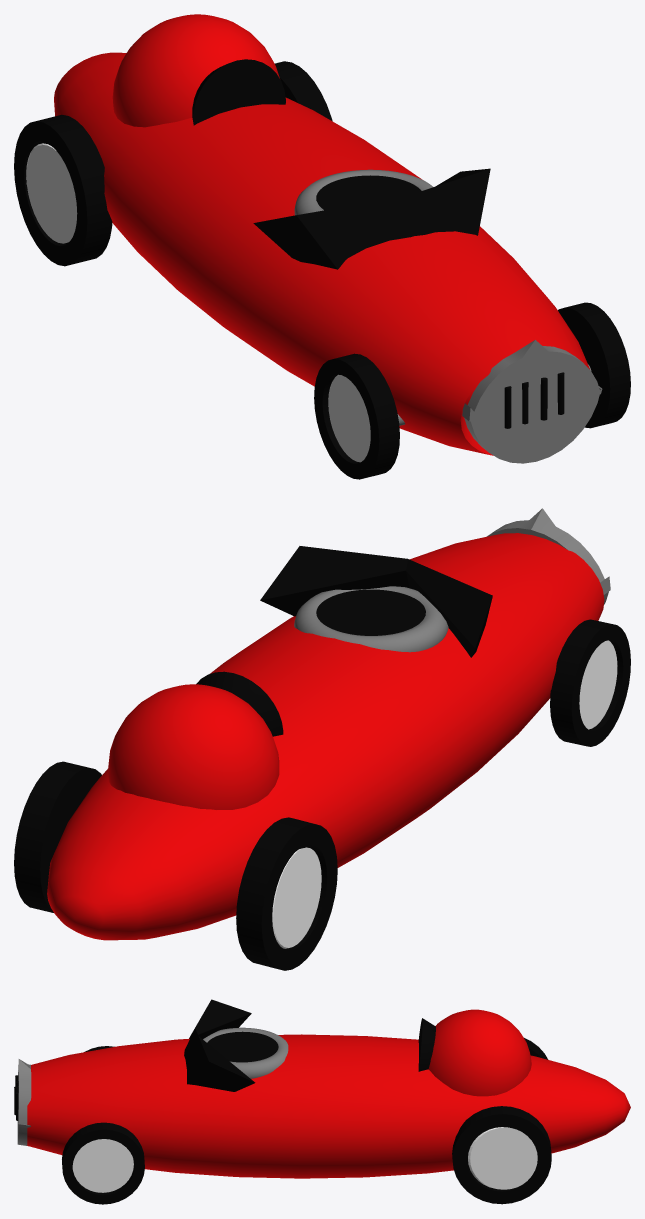
The model's file is carro fr.fbx.
3 views of the same model, one above another, from view 1: azimuth 30°, elevation 25°; view 2: azimuth 150°, elevation 25°; view 3: azimuth 270°, elevation 25° (orthographic). The views are drawn at different scales.
Visible parts, largest first — view 1: Sphere, Cylinder, Cube, Sphere.001, Cylinder.002, Cylinder.003, Cylinder.001, Cone, Cylinder.008, Cylinder.010, Cylinder.005, Cylinder.004 (+1 smaller); view 2: Sphere, Sphere.001, Cube, Cylinder.002, Cylinder.004, Cylinder.003, Cylinder.005, Torus, Cylinder.008, Cylinder.010, Cylinder, Cone; view 3: Sphere, Sphere.001, Cylinder.004, Cube, Cylinder.011, Cylinder.001, Cylinder.009, Cylinder.005, Torus, Cylinder, Cone.
Boxes of the visible parts, x1,y1,x2,y2 form: Sphere: (54, 52, 589, 455); Cylinder: (462, 340, 602, 463); Cube: (253, 168, 490, 269); Sphere.001: (112, 14, 279, 127); Cylinder.002: (14, 114, 112, 266); Cylinder.003: (314, 353, 399, 479); Cylinder.001: (558, 302, 630, 428); Cone: (192, 59, 285, 125); Cylinder.008: (26, 143, 77, 243); Cylinder.010: (328, 374, 370, 462); Cylinder.005: (316, 175, 421, 210); Cylinder.004: (275, 61, 332, 121); Sphere: (47, 533, 604, 940); Sphere.001: (108, 684, 279, 809); Cube: (260, 546, 492, 657); Cylinder.002: (236, 817, 337, 970); Cylinder.004: (14, 761, 101, 912); Cylinder.003: (550, 619, 630, 746); Cylinder.005: (316, 589, 425, 635); Torus: (294, 586, 448, 652); Cylinder.008: (272, 847, 321, 948); Cylinder.010: (579, 640, 617, 729); Cylinder: (487, 508, 610, 604); Cone: (196, 671, 283, 736); Sphere: (27, 1034, 630, 1178); Sphere.001: (428, 1009, 531, 1096); Cylinder.004: (452, 1106, 551, 1204); Cube: (184, 999, 255, 1091); Cylinder.011: (468, 1127, 537, 1189); Cylinder.001: (62, 1122, 144, 1204); Cylinder.009: (72, 1139, 133, 1192); Cylinder.005: (207, 1031, 278, 1062); Torus: (203, 1027, 288, 1078); Cylinder: (17, 1059, 31, 1145); Cone: (418, 1018, 435, 1071).
Size of the model in its own units: 263 by 225 by 830.
